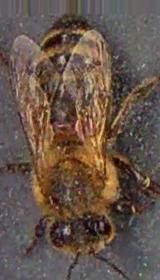varroa_mite: (67, 114, 96, 134)
